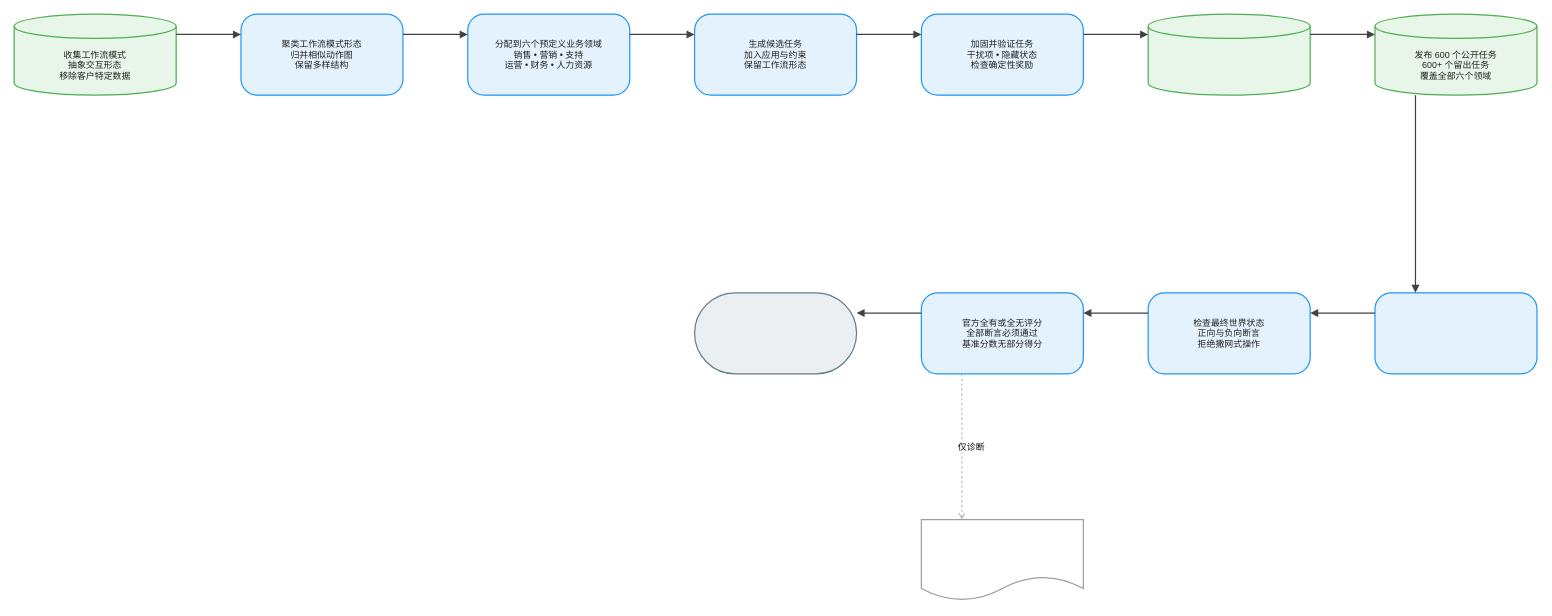
The diagram is 1552 pixels wide and 616 high, and some of its shapes have lost their labels. The box of each missing label's shape, as (x1, y1, x2, y2) in pixels:
报告严格任务通过率 私有集排行榜 记录平均成本: (694, 292, 857, 374)
构建模拟 API 世界 约 500 个端点 覆盖 47 个应用: (1147, 13, 1310, 95)
运行一条自主请求 搜索并调用 API 持久化跨应用变更: (1374, 292, 1537, 374)
部分得分仅为旁注 仅用于训练与诊断 不计入官方分数: (920, 519, 1084, 601)
